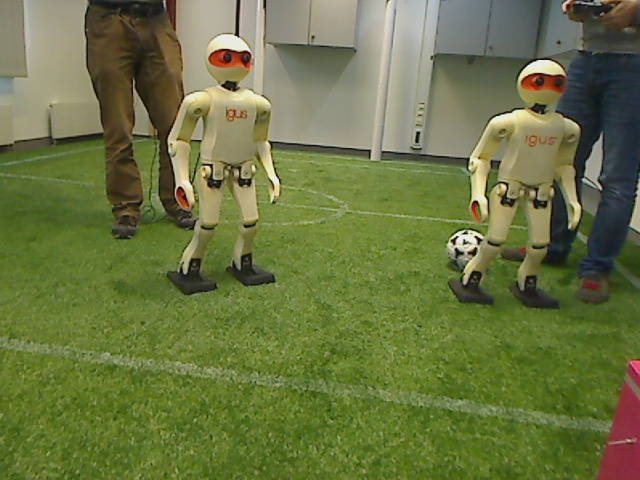ball: (445, 228, 488, 271)
robot: (459, 57, 584, 313), (166, 31, 286, 297)
